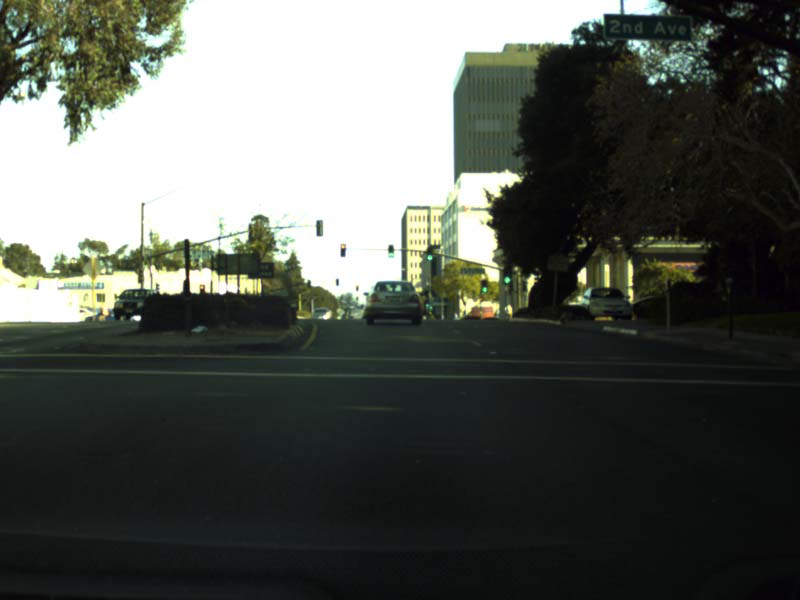Green: (503, 265, 512, 284), (426, 245, 434, 261), (480, 279, 488, 293), (387, 243, 394, 258)
Red: (339, 243, 346, 257), (355, 284, 359, 291)
